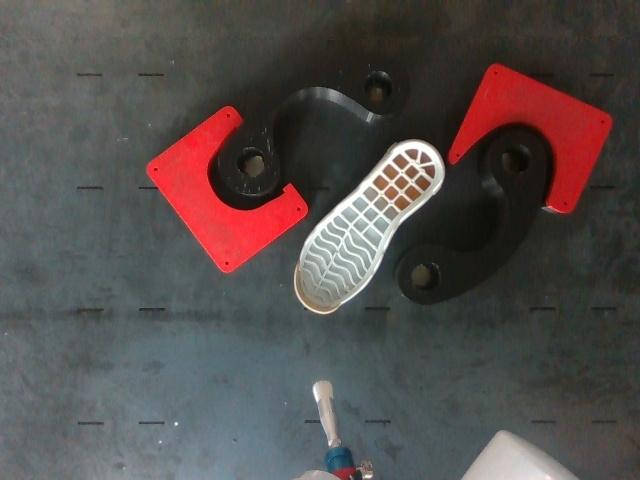shoes: (296, 142, 442, 312)
